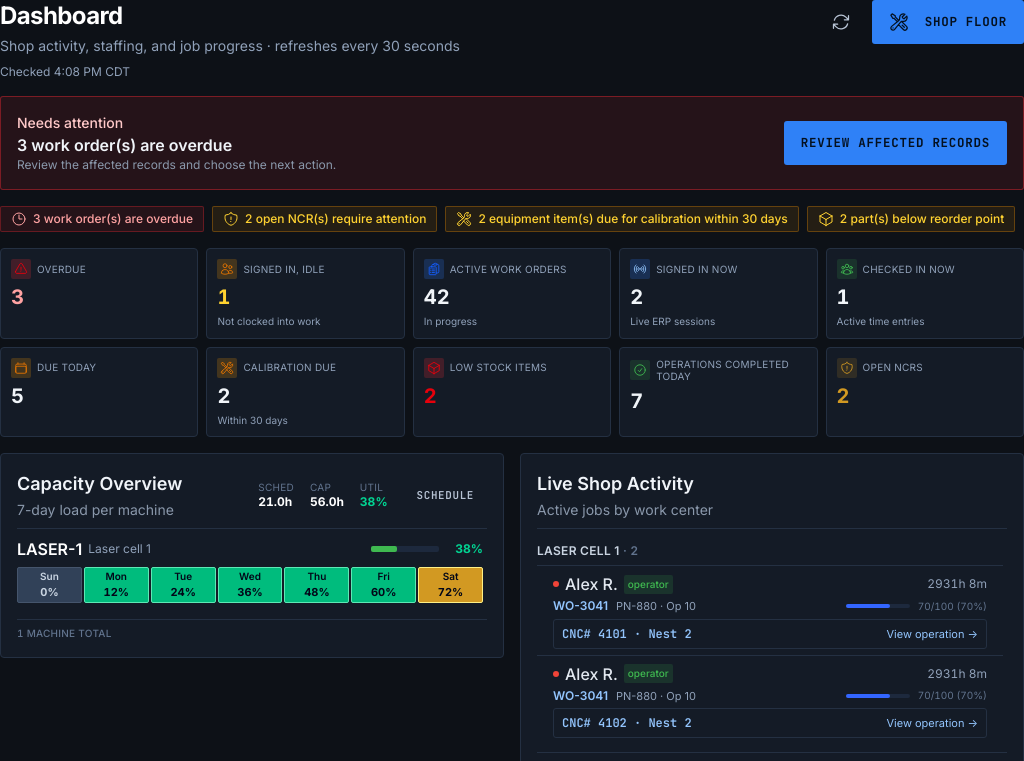
dashboard operation details and nest PDF › allows retrying a failed operation load
Click the button with aria-label "View operation details for CNC# 4102". click: coordinates (627, 723)
box: [553,708,987,738]
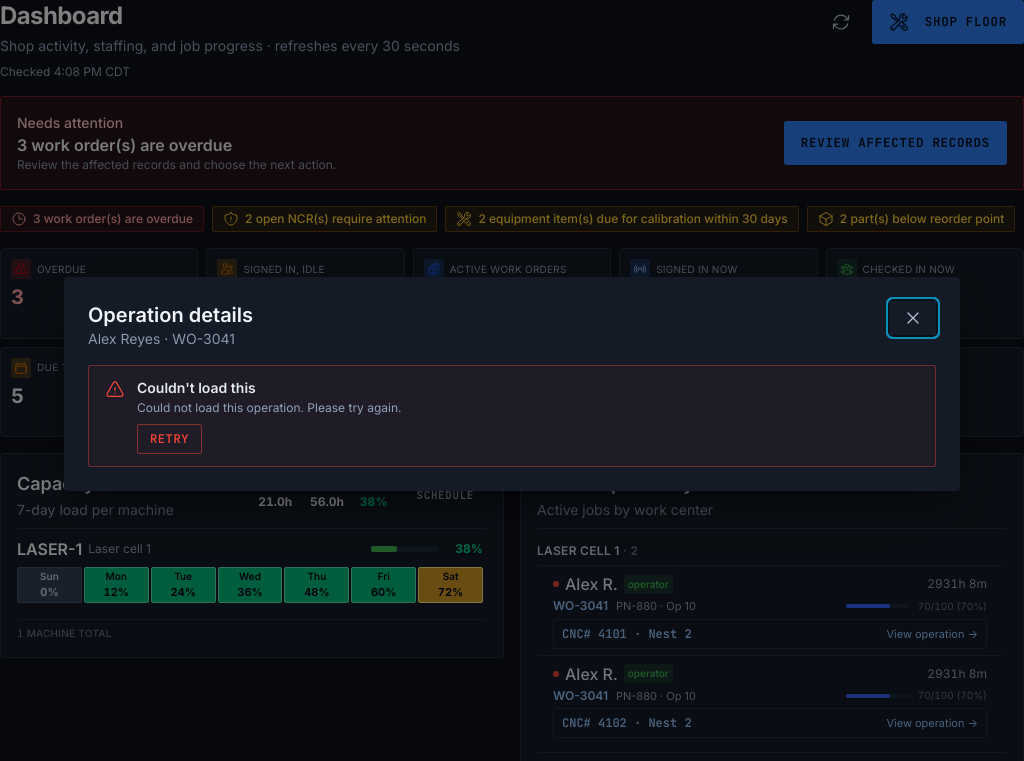
Expected: the text "Could not load this operation. Please try again." is shown, [137,400,402,415]
Click the button "Retry". click: coordinates (170, 439)
box: [137,424,202,454]
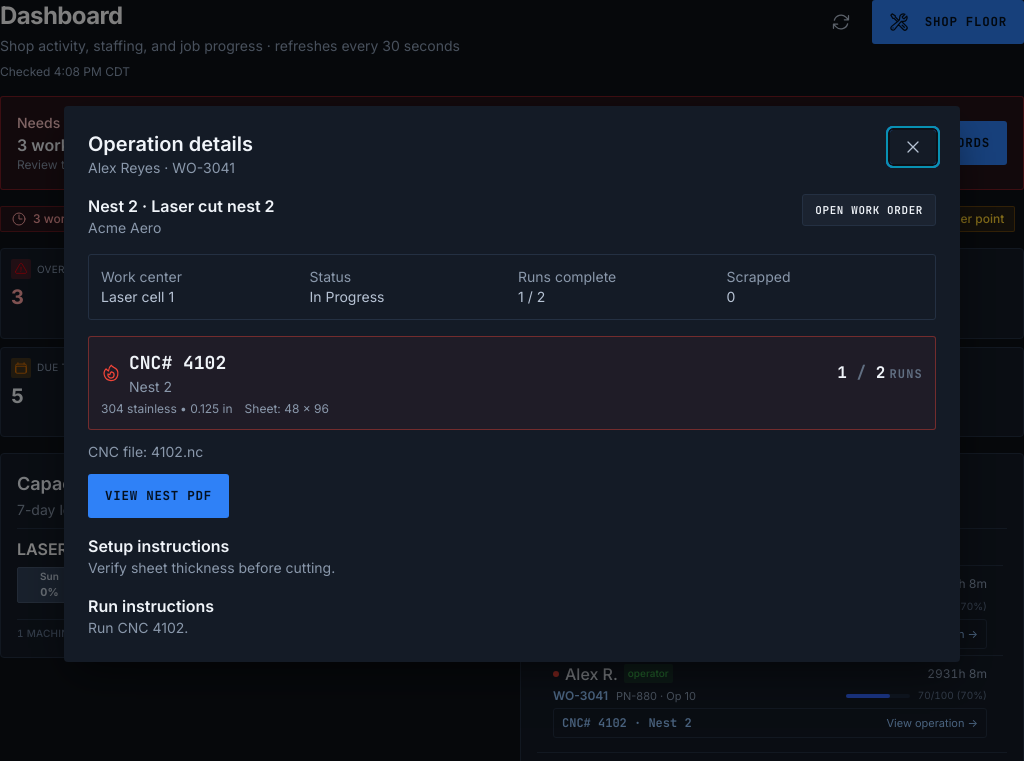
Expected: the text "Run CNC 4102." is shown, [88,619,188,636]
